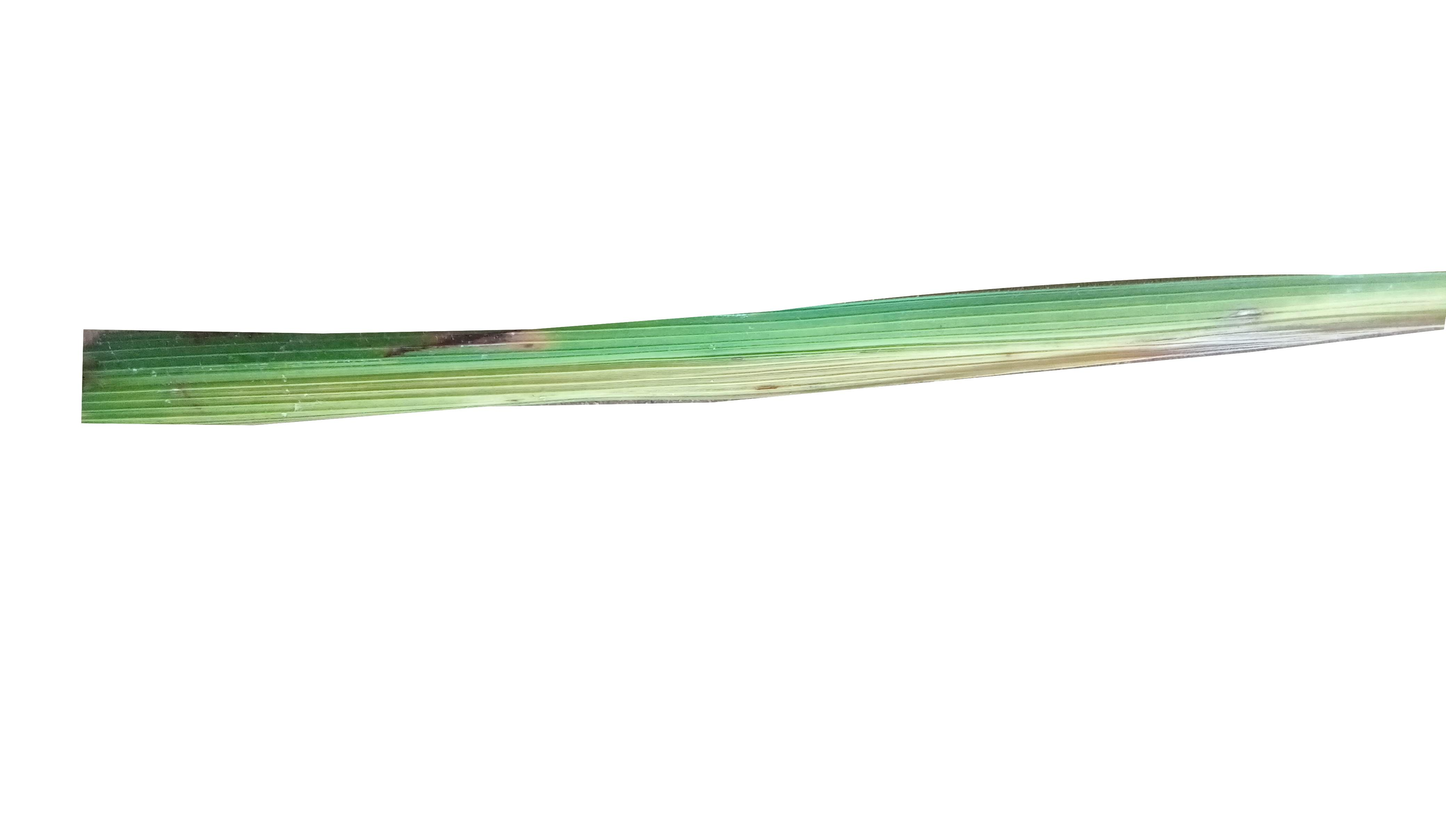Rice blast: (400, 321, 561, 358)
